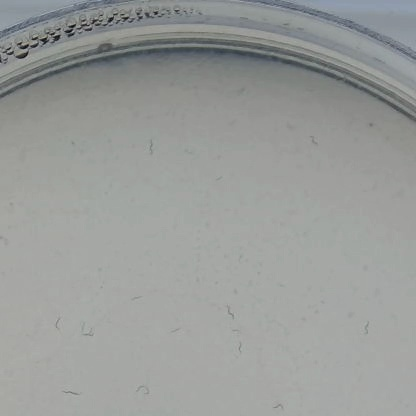worm: (143, 134, 158, 159), (78, 321, 97, 340), (59, 389, 85, 402), (136, 381, 156, 397), (222, 303, 239, 320), (50, 315, 66, 333), (128, 292, 147, 306), (270, 399, 290, 412), (308, 129, 319, 150), (284, 120, 295, 140), (359, 321, 373, 336), (166, 325, 185, 336), (235, 341, 244, 359), (214, 172, 226, 183), (0, 235, 10, 246), (229, 328, 244, 335), (182, 149, 193, 157)
